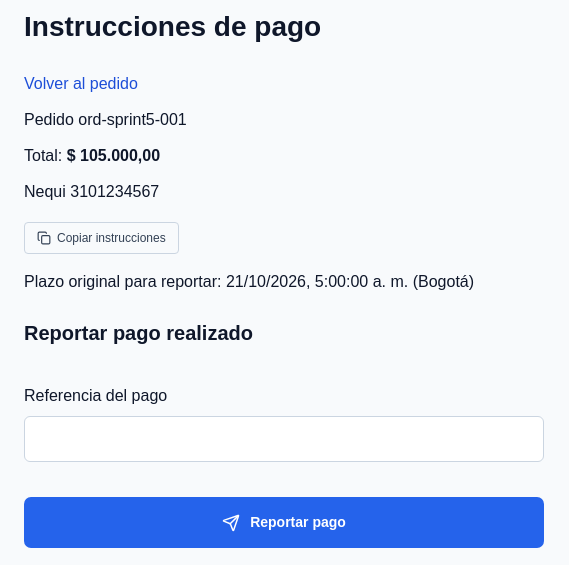
Test: Sprint 5 — CO-59 & CO-60: Instrucciones y Reporte de Pago › envía el reporte de pago y muestra el estado REPORTED con advertencia de revisión
This screenshot has width=569, height=565.
Step 1. Type "COMPROBANTE-9988" into the field labelled "Referencia del pago" → (284, 439), box [24,416,544,462]
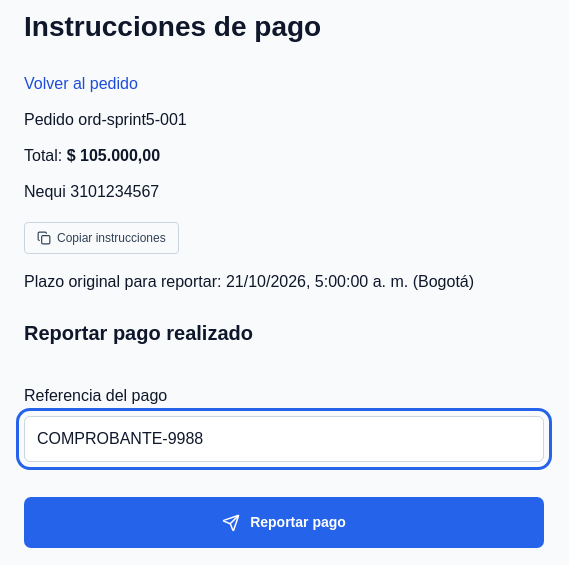
Step 2. Click the button "Reportar pago" → (284, 522), box [24,497,544,548]
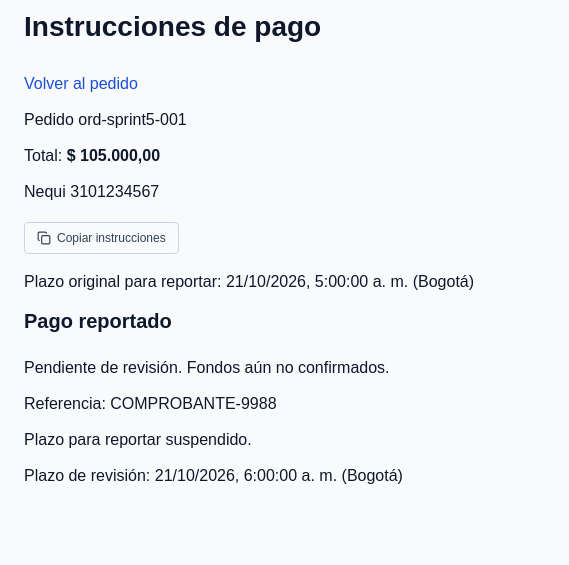
Expected: the text "Pendiente de revisión. Fondos aún no confirmados." is shown, [24,359,390,376]
Expected: the text "Referencia: COMPROBANTE-9988" is shown, [24,395,276,412]
